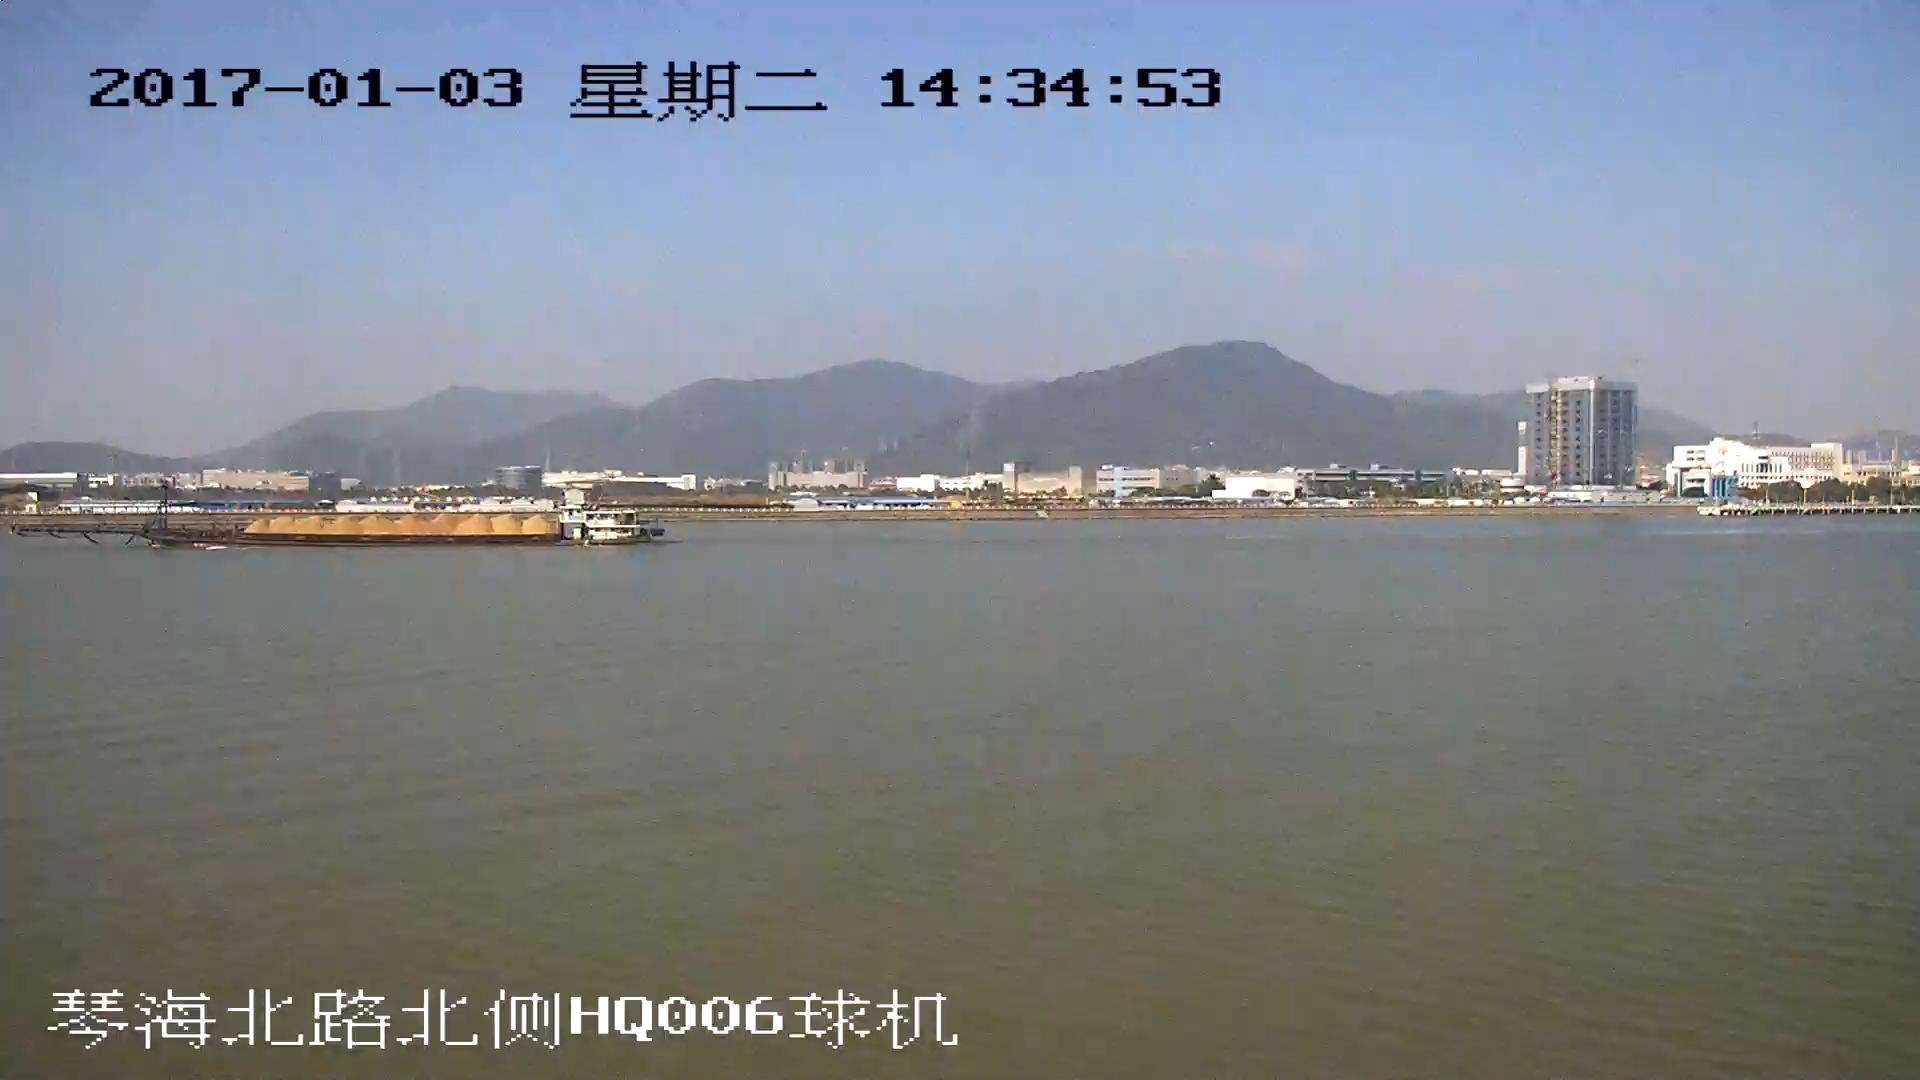ore carrier: (18, 492, 665, 548)
